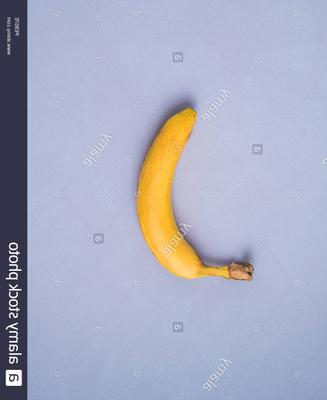banana: (0, 0, 327, 400)
